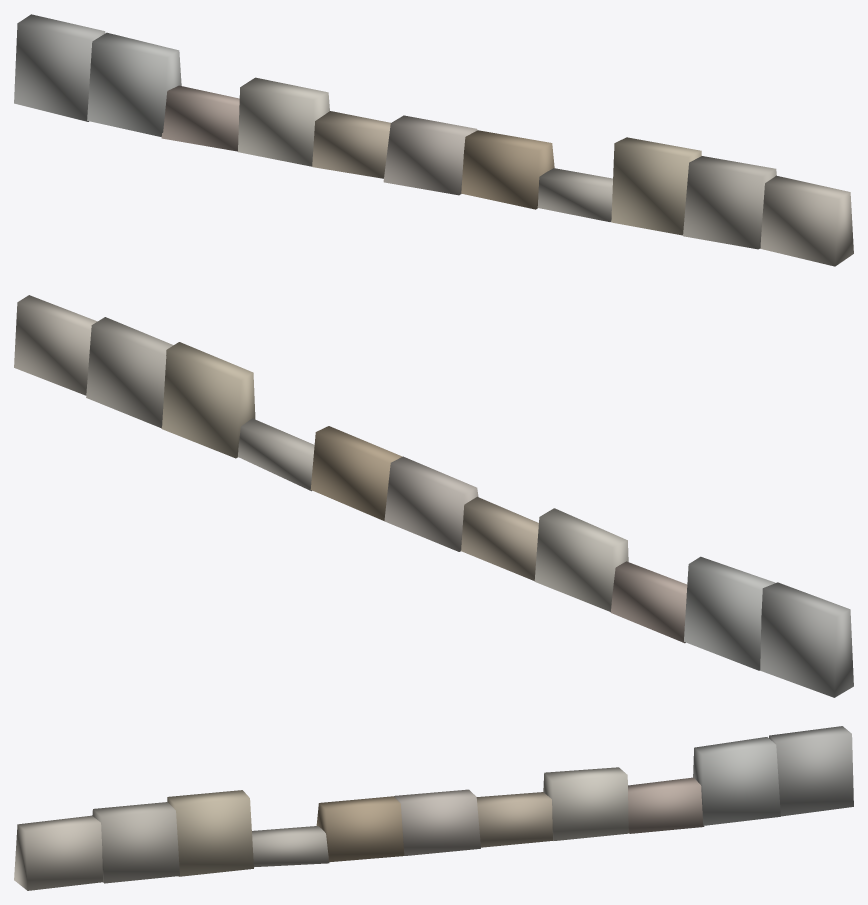
Rendered from farm_-1_11_far.glb.
3 views of the same model, one above another, from view 1: azimuth 30°, elevation 25°; view 2: azimuth 210°, elevation 25°; view 3: azimuth 270°, elevation 25° (orthographic). The views are drawn at different scales.
Parts seen in each view (by area): view 1: geometry_0; view 2: geometry_0; view 3: geometry_0.
Part boxes in pixels (box(x1,y1,x2,y2)): geometry_0: box(14, 14, 853, 266); geometry_0: box(14, 295, 853, 697); geometry_0: box(14, 726, 853, 890).
Bounding box in the file's own units: 7.77 × 2.82 × 16.05.
